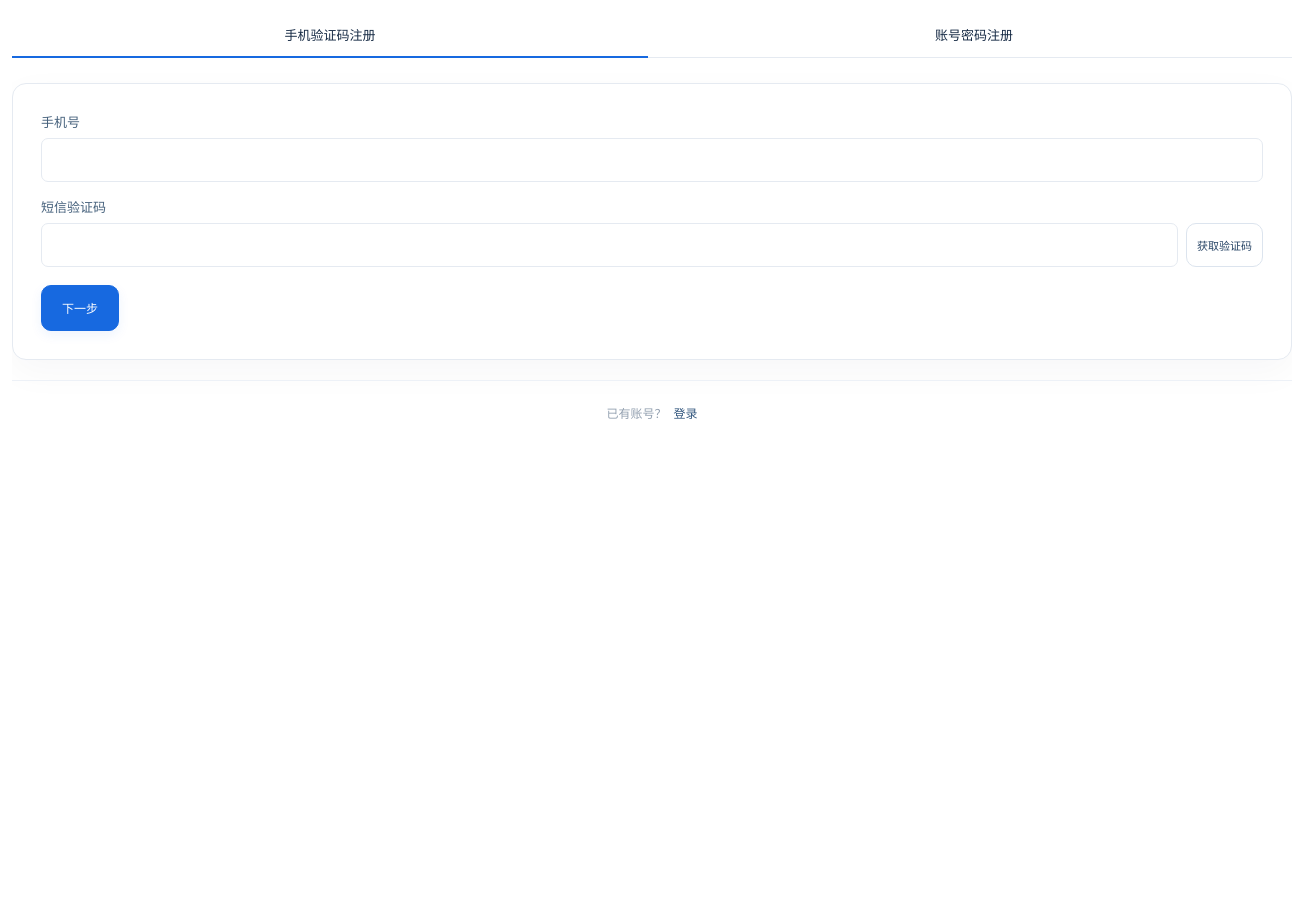
Test case: preserves registration fields when changing tabs and does not expose SMS login
Type "13900008802" into the field labelled "手机号" at (652, 160), box [41,138,1263,182]
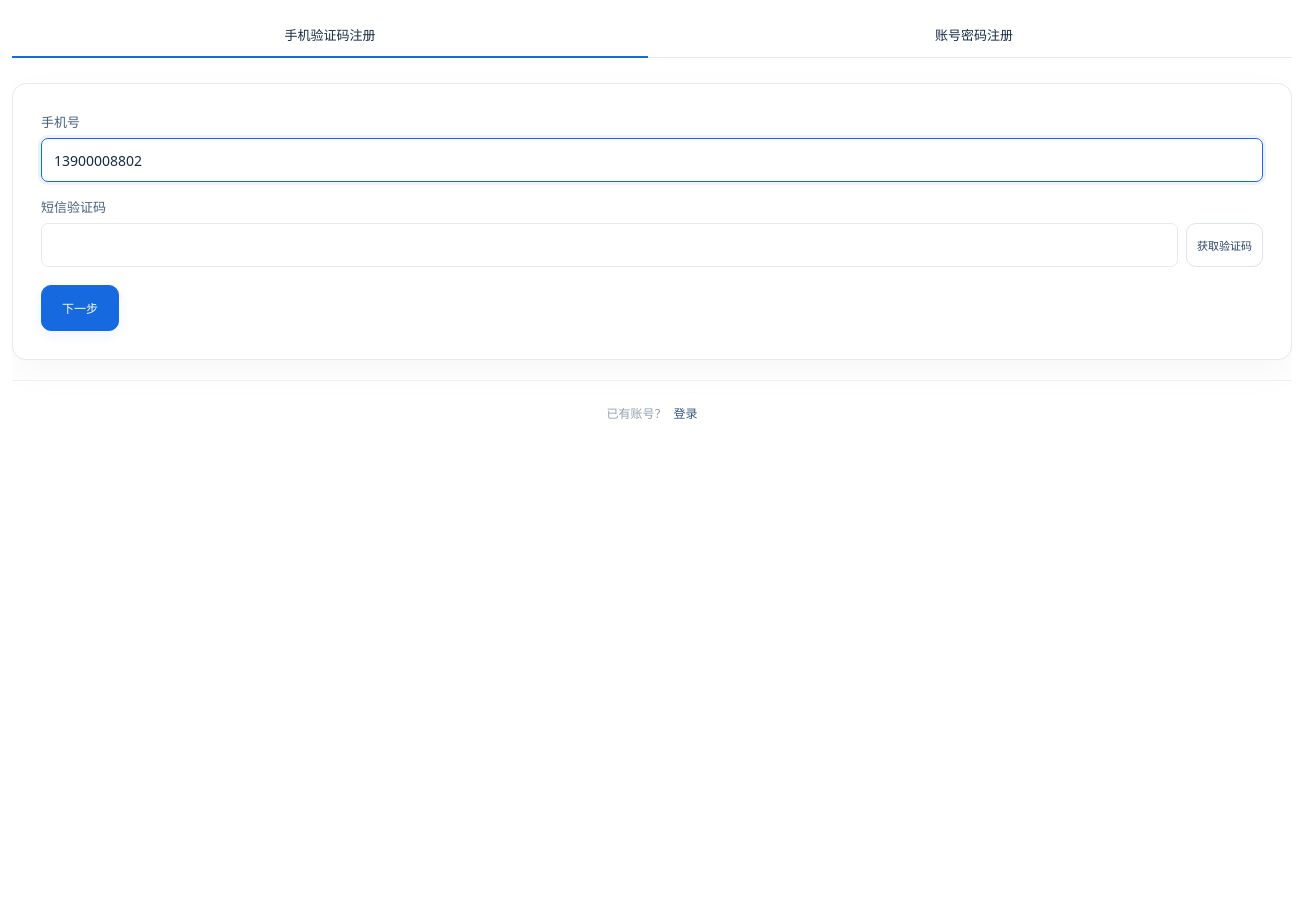
Click the tab "账号密码注册" at (974, 34), box [656,12,1292,57]
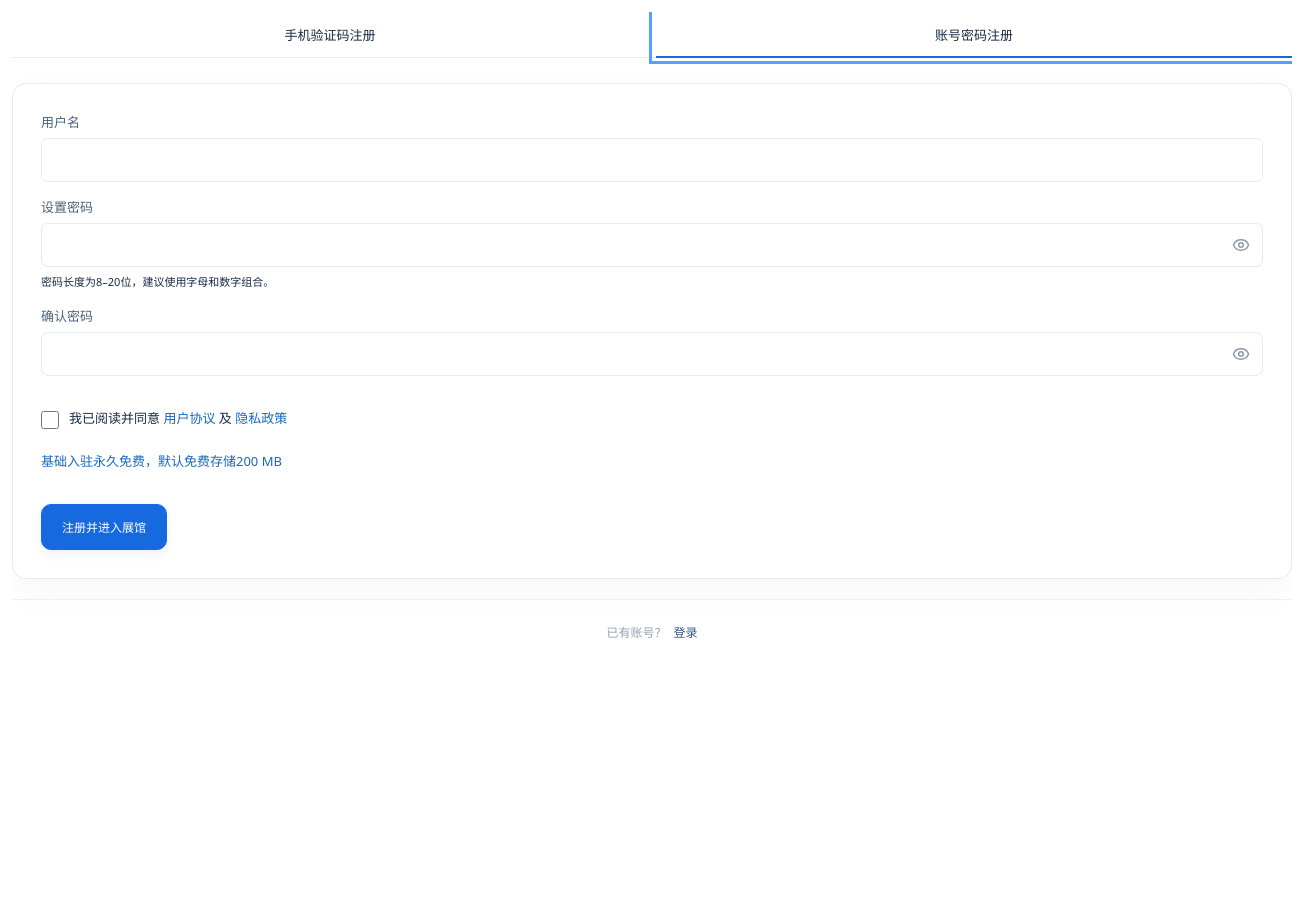
Type "普通经营者" into the field labelled "用户名" at (652, 160), box [41,138,1263,182]
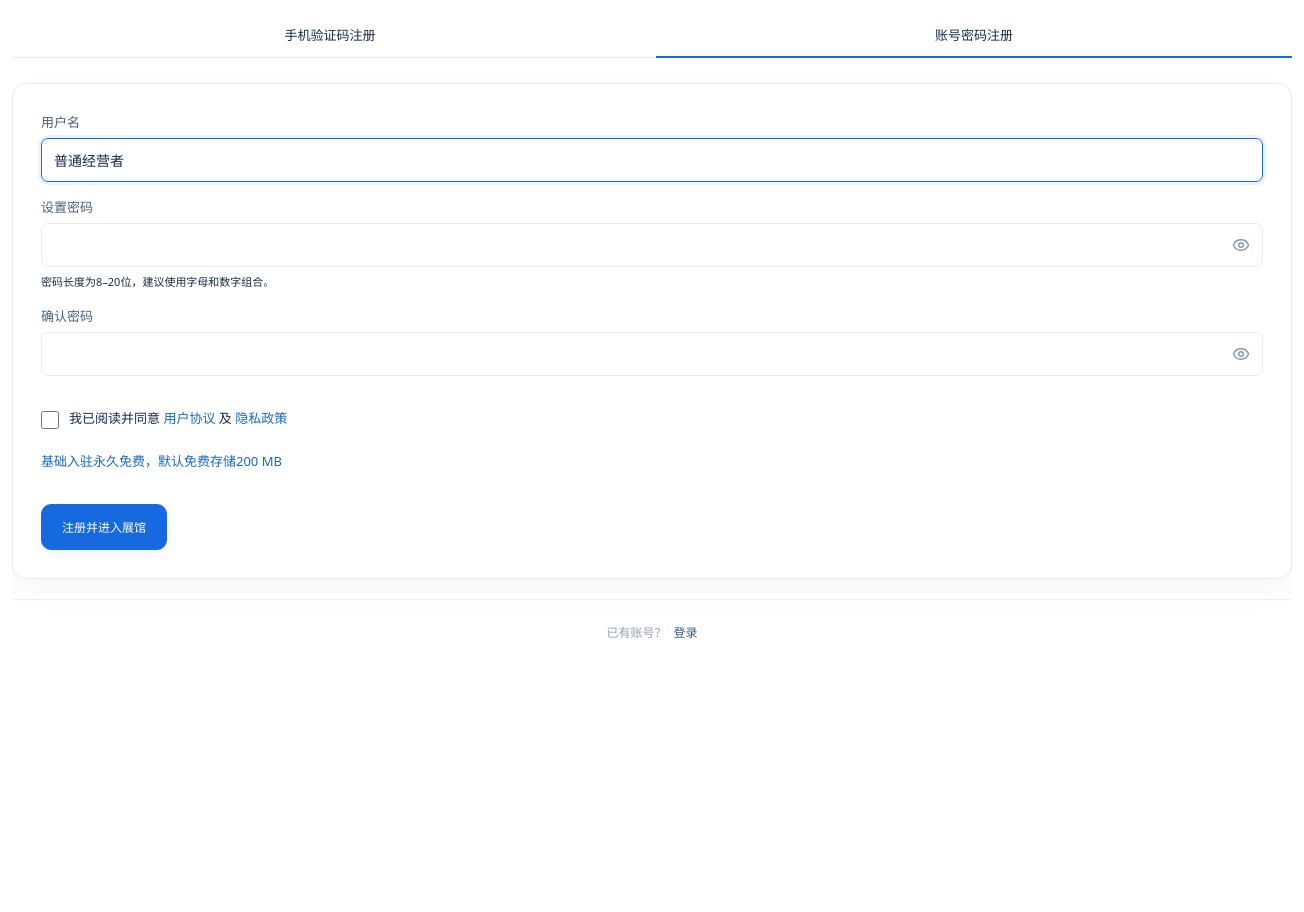
Type "abcdefgh" into the password field labelled "设置密码" at (652, 245), box [41,223,1263,267]
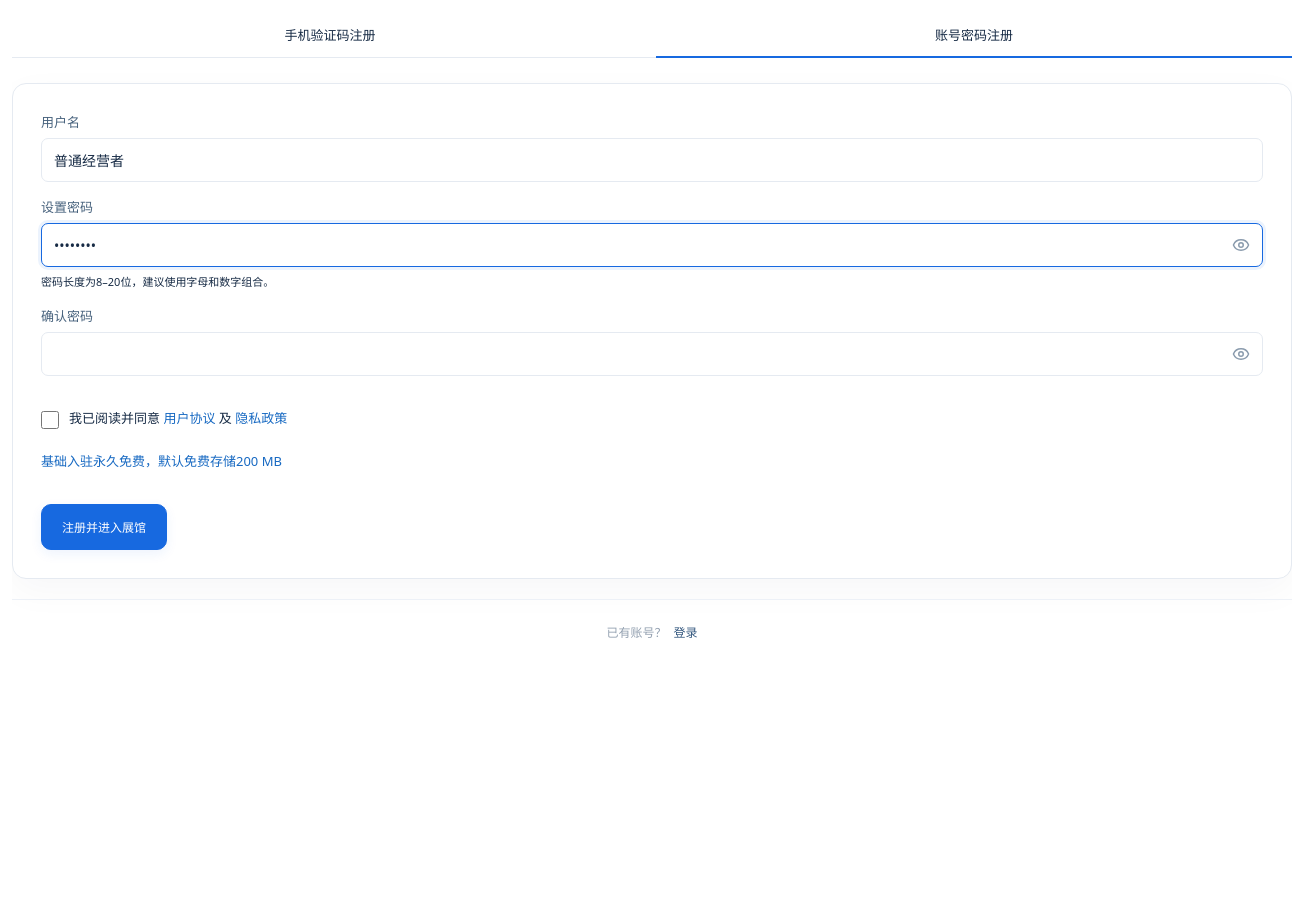
Click the tab "手机验证码注册" at (330, 34), box [12,12,648,57]
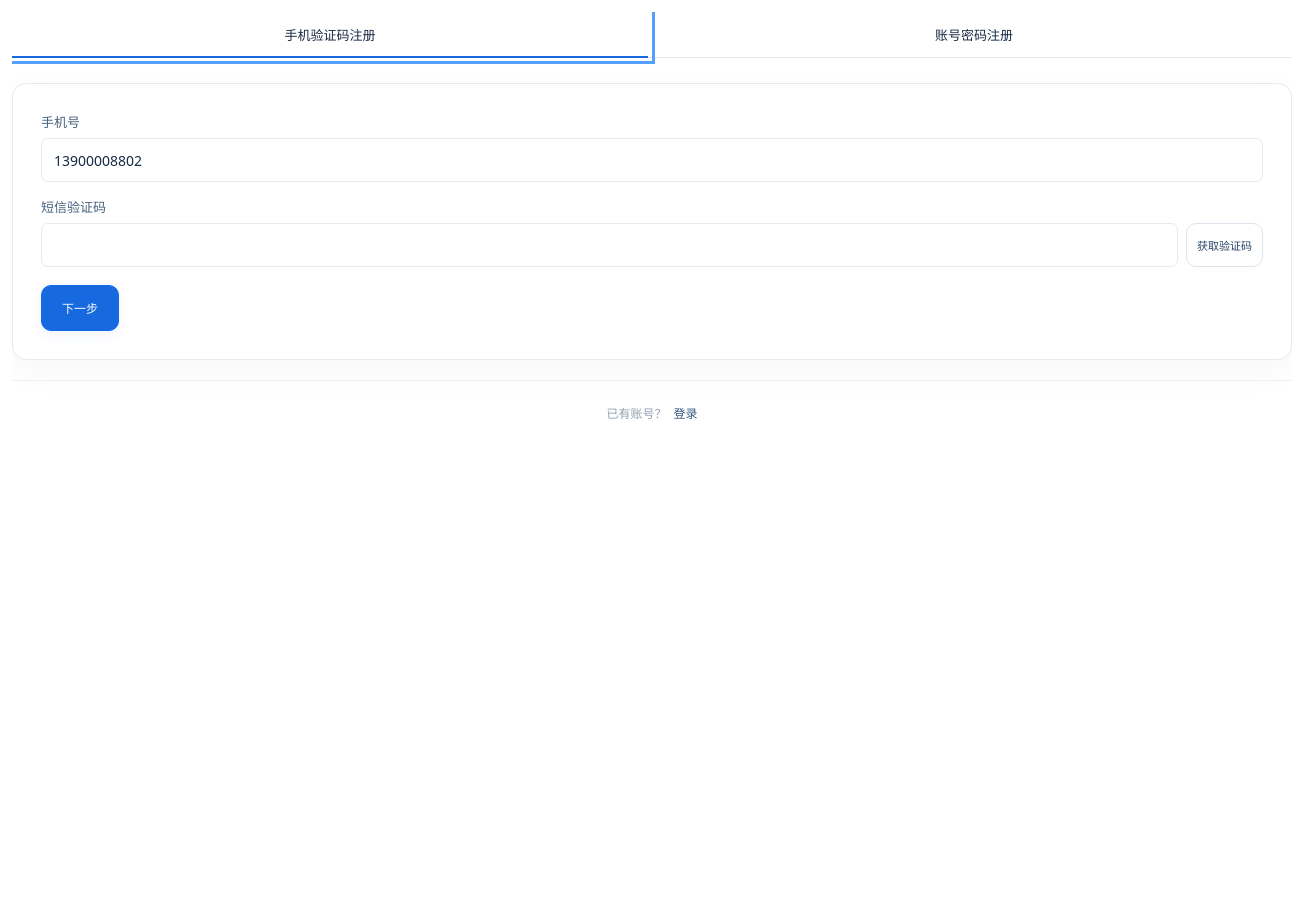
Click the tab "账号密码注册" at (974, 34), box [656,12,1292,57]
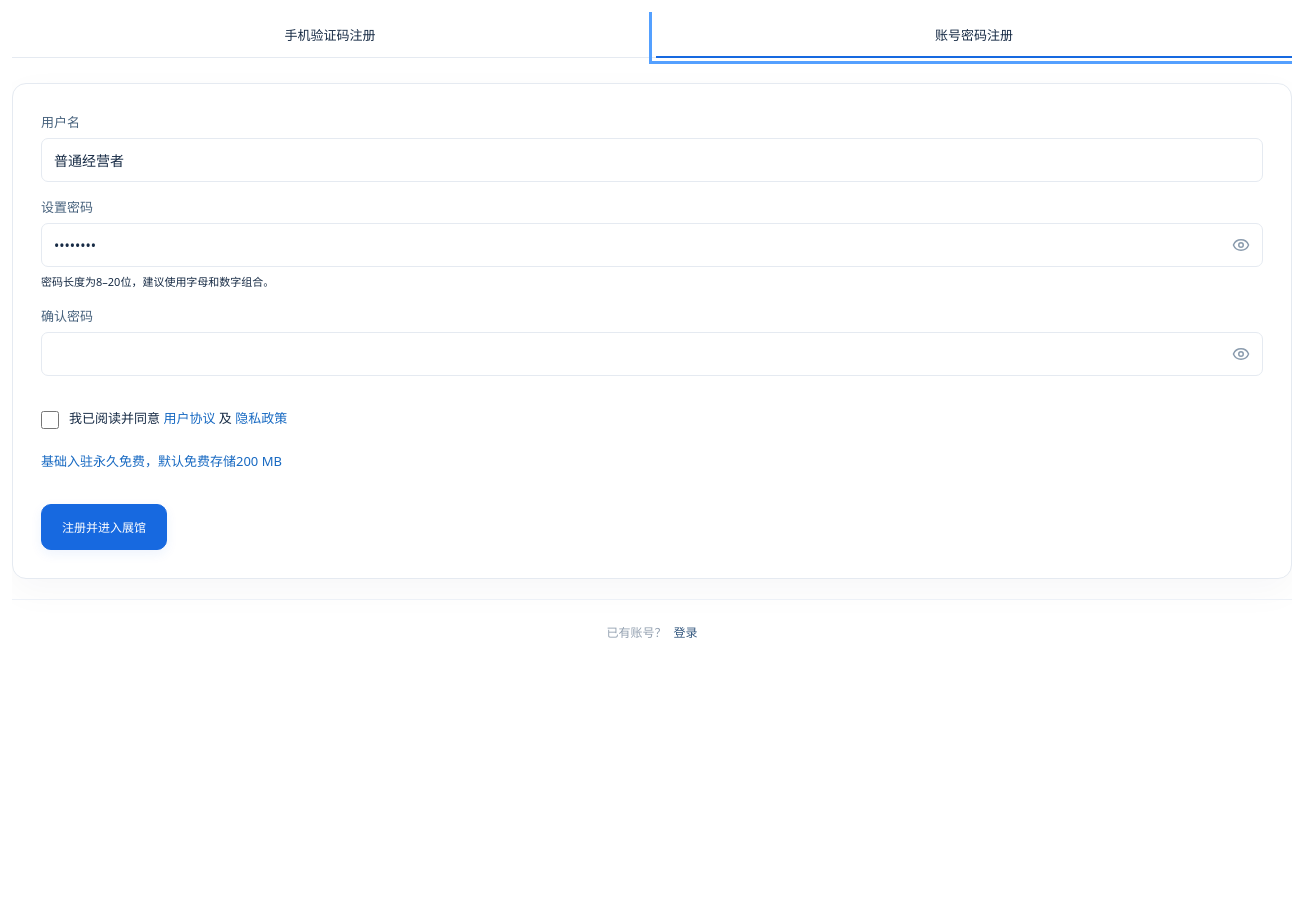
Result: the label "短信验证码" is gone
